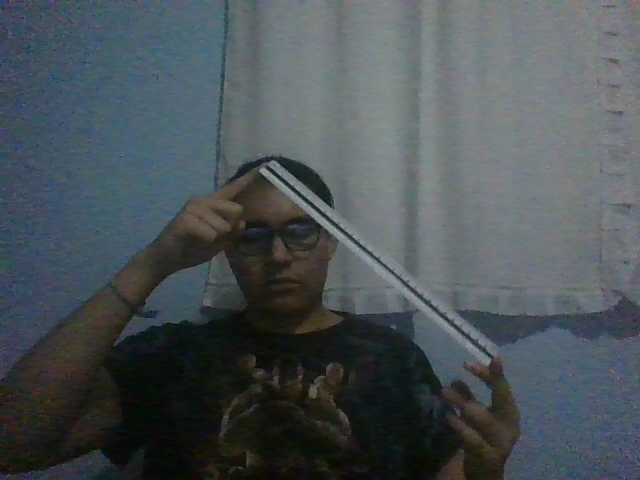regla: (257, 160, 499, 368)
